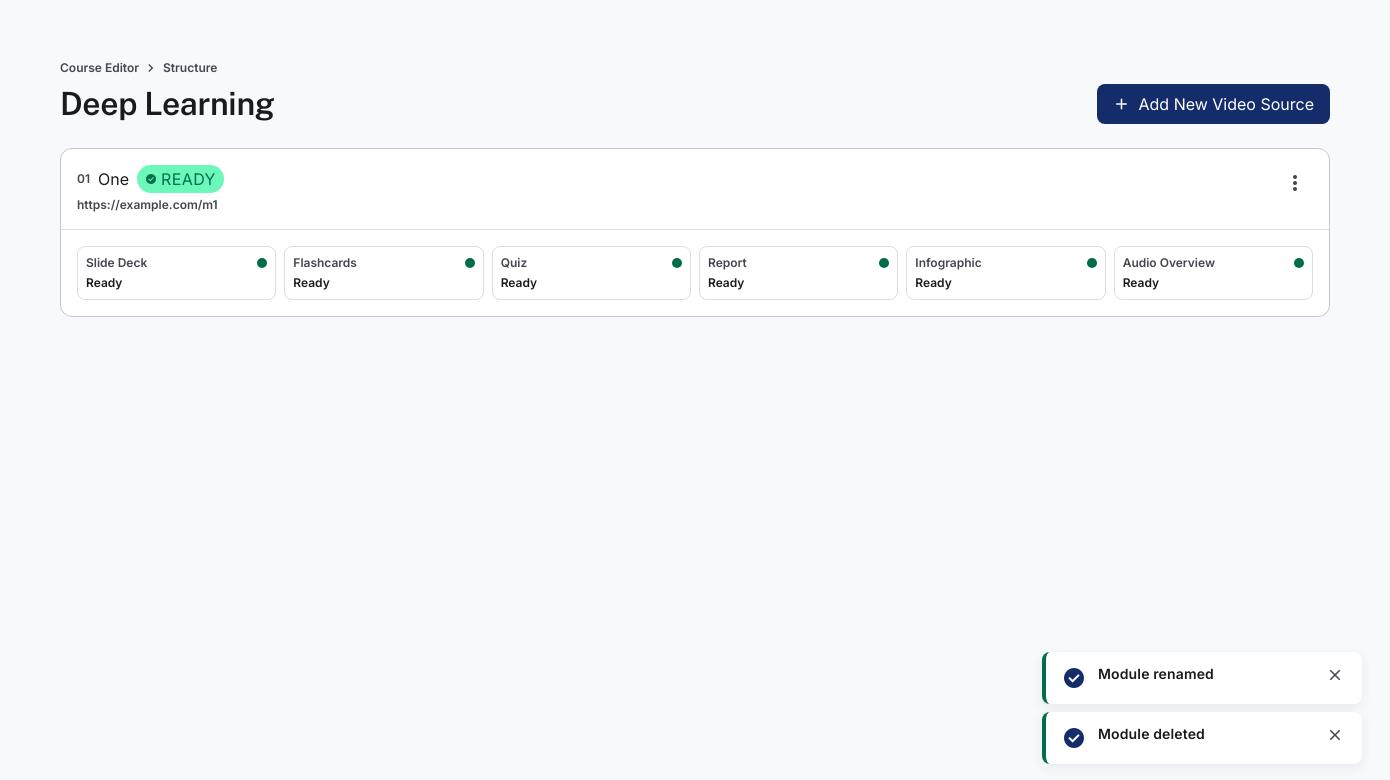
Test case: CourseStructurePage › re-runs all artifacts for a module
The width and height of the screenshot is (1390, 780).
Check: the heading "Deep Learning" is shown, box [60,84,275,124]
Click the button with test id "btn-ce2" at (1295, 186), box [1277,165,1313,207]
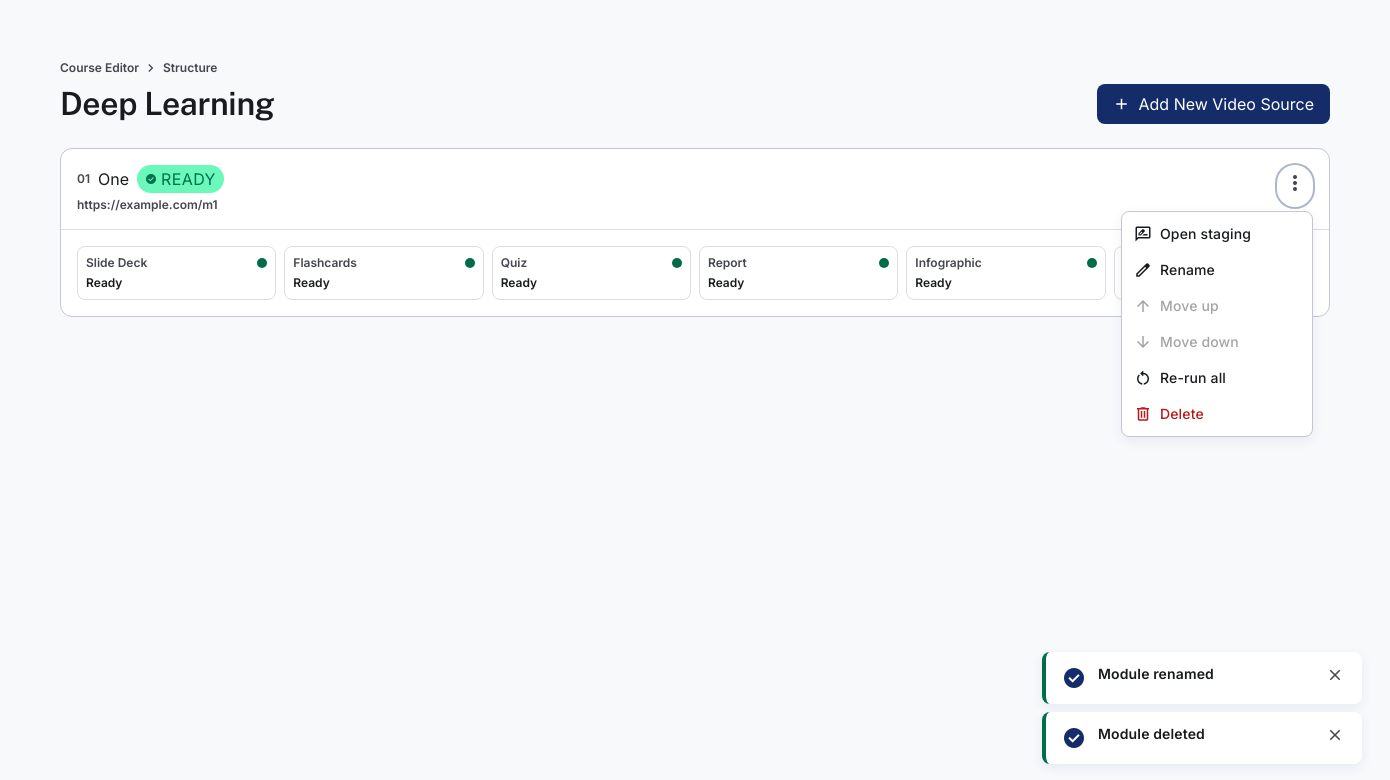
Click the menu item with test id "btn-ce7" at (1217, 378), box [1122,360,1312,396]
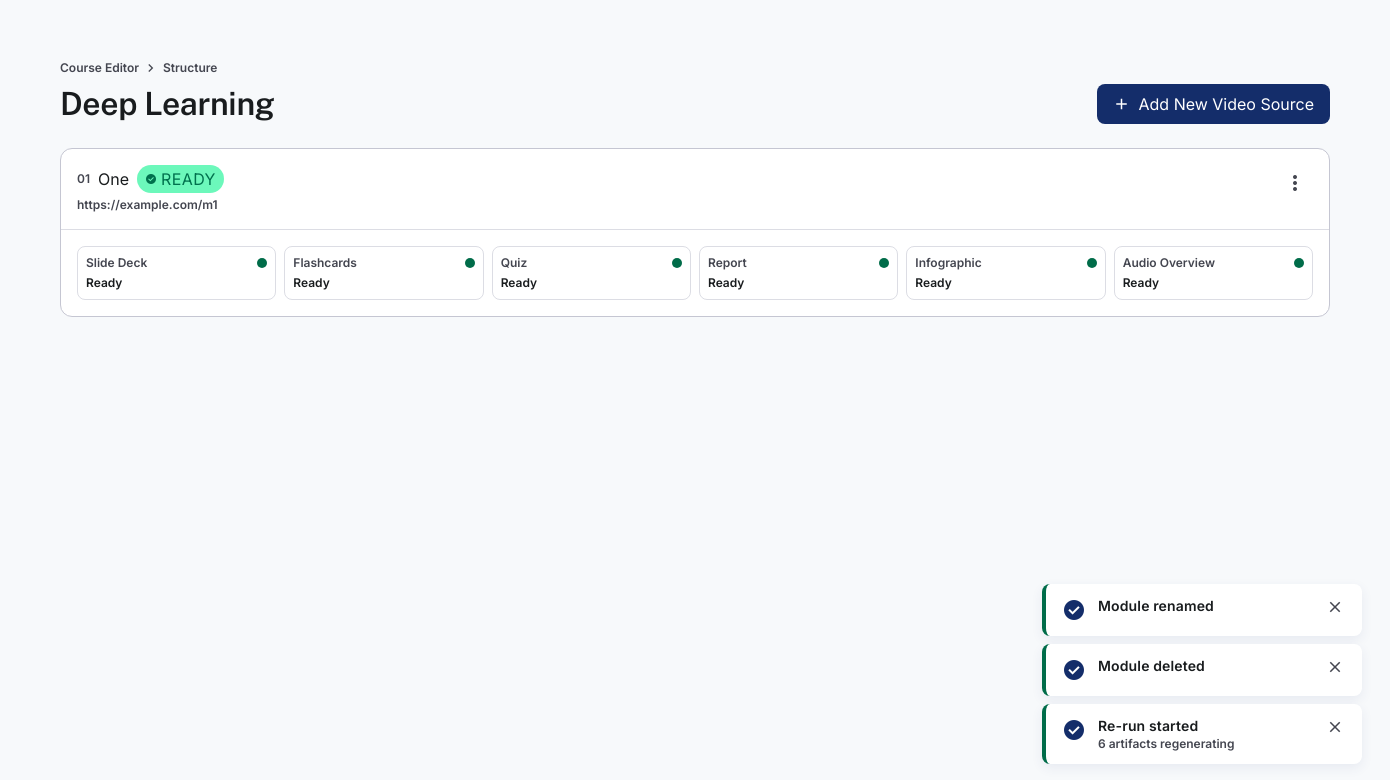
Check: the text "6 artifacts regenerating" is shown, box [1098,736,1234,751]
